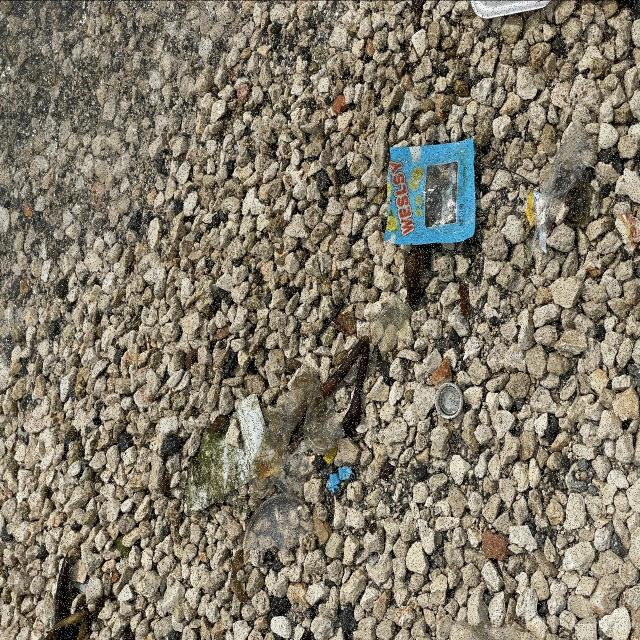plastic_waste: (386, 139, 477, 248)
